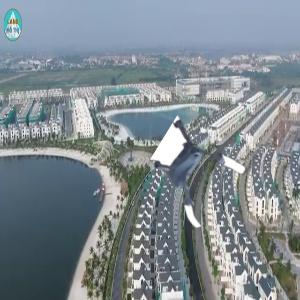drone: (148, 132, 242, 226)
